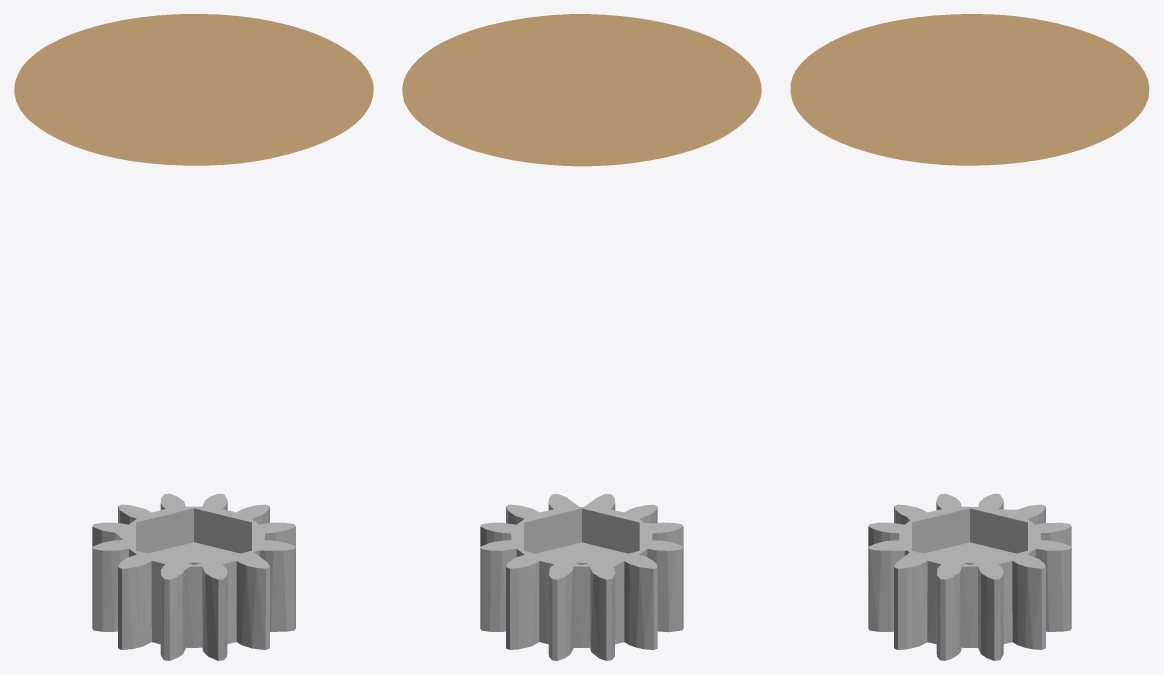
The model's file is init.glb.
3 renders of one model, left to right at view 1: azimuth 30°, elevation 25°; view 2: azimuth 150°, elevation 25°; view 3: azimuth 270°, elevation 25°, orthographic.
Visible parts, largest first — view 1: world, object.obj; view 2: world, object.obj; view 3: world, object.obj.
Boxes of the visible parts, x1,y1,x2,y2 form: world: (14,14,373,165); object.obj: (92,493,295,660); world: (402,14,761,166); object.obj: (480,493,683,660); world: (790,14,1149,165); object.obj: (868,493,1071,660).
Bounding box in the file's own units: 0.6161 × 1 × 0.6161.
